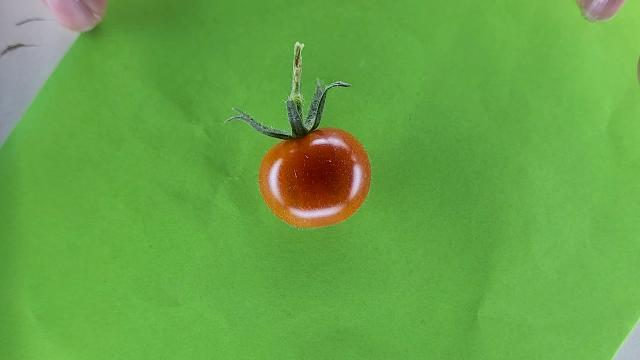Fully Grown: (256, 127, 373, 228)
